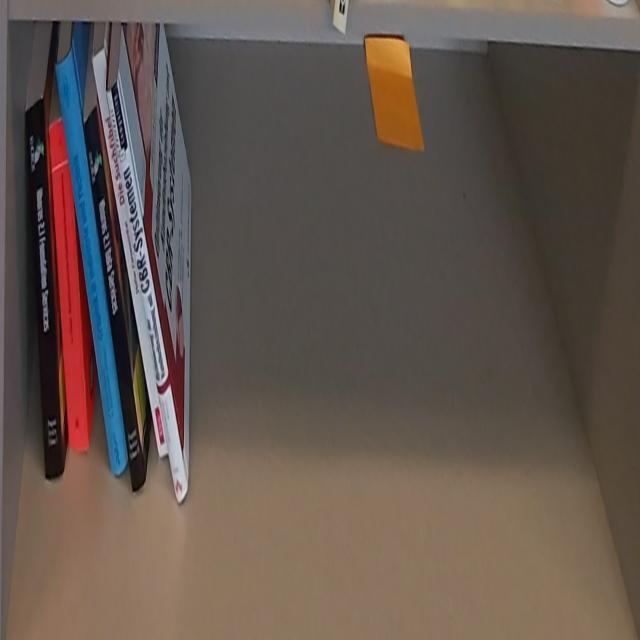Book Spine: (104, 76, 188, 507), (56, 46, 130, 479), (92, 47, 168, 464), (83, 103, 147, 493), (23, 97, 64, 479), (48, 117, 90, 454)
